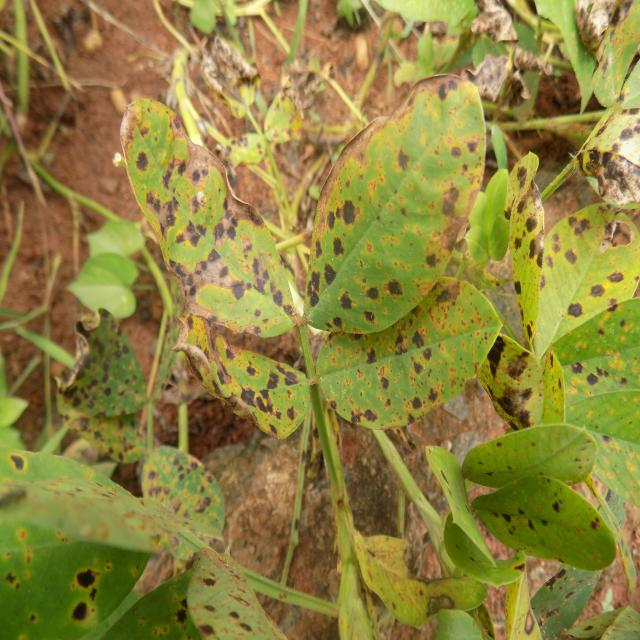Ground nut_tikka leaf spot: (297, 76, 488, 342), (528, 205, 640, 356), (182, 322, 311, 442), (128, 440, 239, 565), (117, 93, 187, 258)
